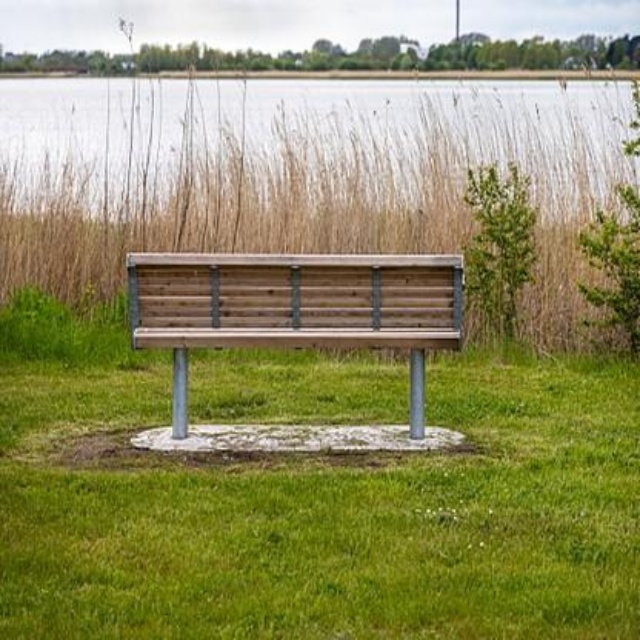obstacle: (109, 234, 477, 474)
